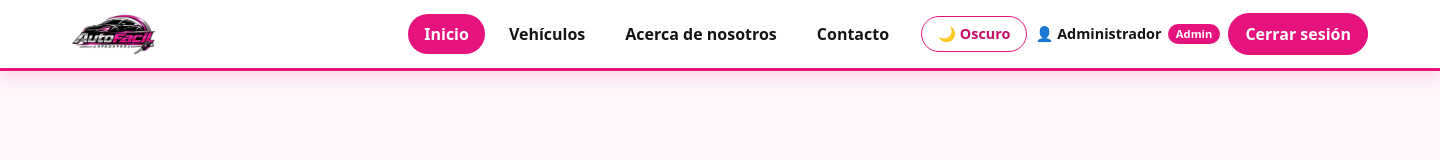
Test: Navbar › muestra el usuario administrador y permite cerrar sesión
The width and height of the screenshot is (1440, 160).
Expected: the text "Administrador" is shown, [1057,24,1161,43]
Expected: the text "Admin" is shown, [1168,24,1220,44]
Click the button "Cerrar sesión" at (1298, 34), box [1228,13,1368,55]
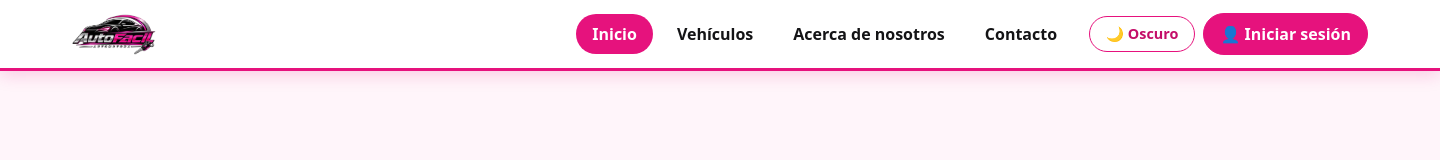
Expected: the button "👤 Iniciar sesión" is shown, [1203,13,1368,55]
Expected: the text "Admin" is gone
